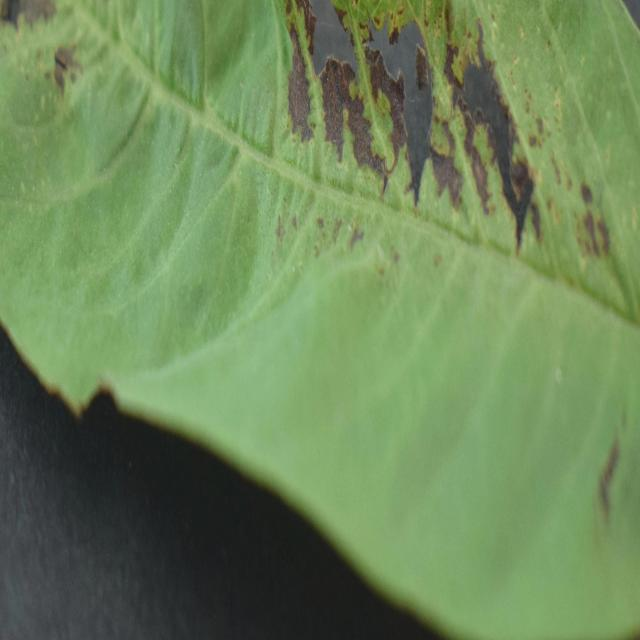Canker: (0, 0, 640, 636)
